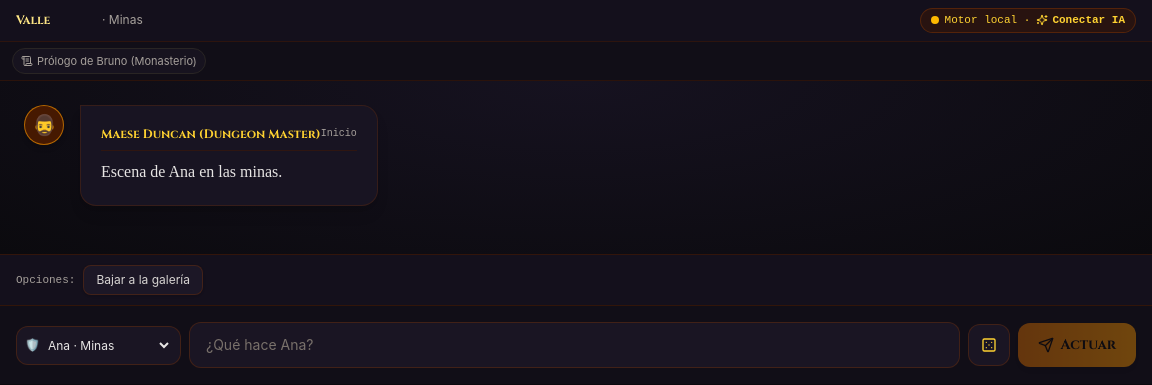
Test: StoryStream con la party separada › los prólogos se leen como historial, sin poder actuar en ellos
The width and height of the screenshot is (1152, 385).
What coordinates should you click on to do the following:
click the tab "Prólogo de Bruno (Monasterio)"
I would click on:
 (109, 61)
Its box is [12, 48, 206, 74].
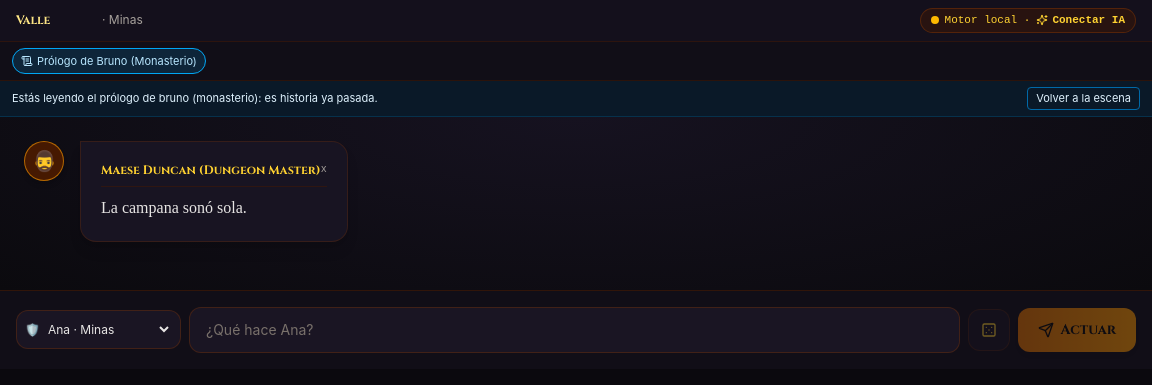
Expected: the text "La campana sonó sola." is shown, [101, 199, 247, 216]
Expected: the text "Escena de Ana" is gone
Expected: the text "Bajar a la galería" is gone
What coordinates should you click on to do the following:
click the button "Volver a la escena"
I would click on:
 (1084, 98)
Its box is [1027, 87, 1140, 110].
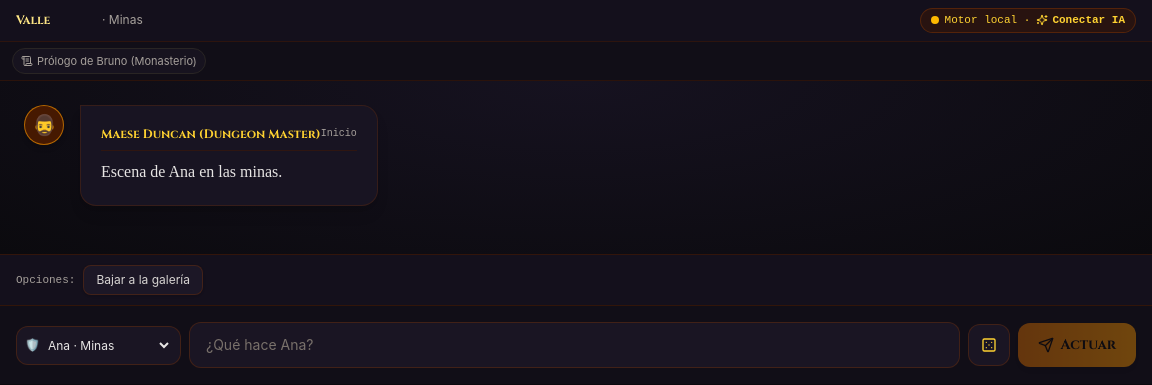
Expected: the text "Escena de Ana" is shown, [101, 163, 282, 180]
